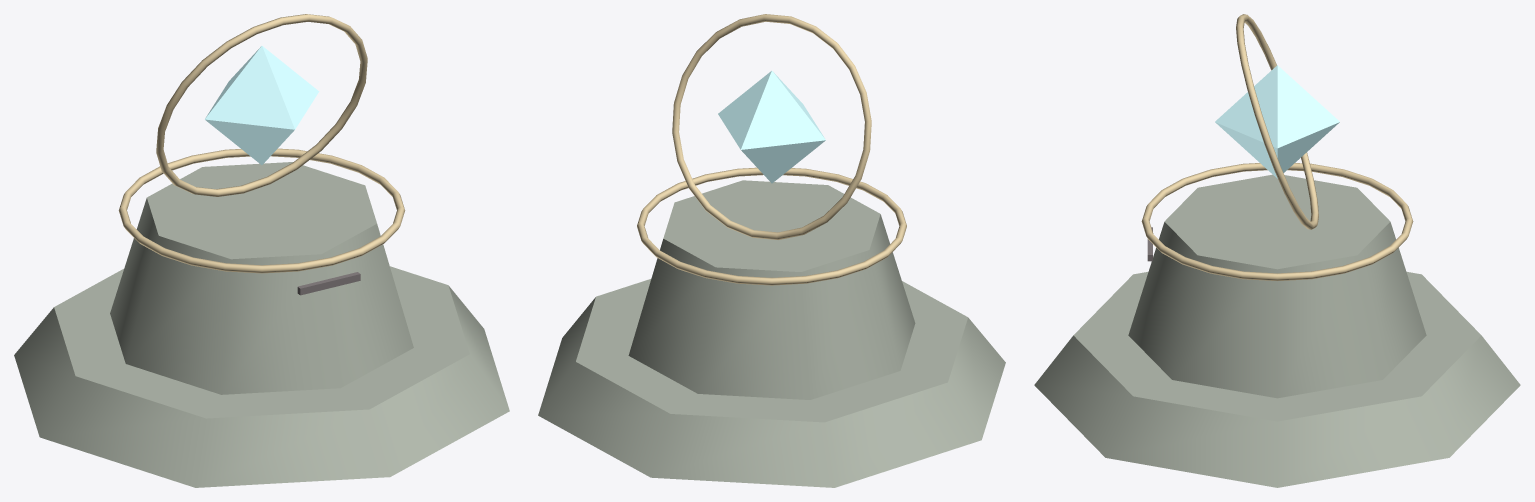
Rendered from prop-altar.glb.
3 views of the same model, side by side, from view 1: azimuth 30°, elevation 25°; view 2: azimuth 150°, elevation 25°; view 3: azimuth 270°, elevation 25° (orthographic). The views are drawn at different scales.
Parts seen in each view (by area): view 1: altar; view 2: altar; view 3: altar.
Part boxes in pixels (x1,y1,x2,y2): altar: [14, 14, 509, 487]; altar: [538, 14, 1005, 487]; altar: [1034, 14, 1520, 487].
Bounding box in the file's own units: 3.1 × 2.53 × 3.1.
